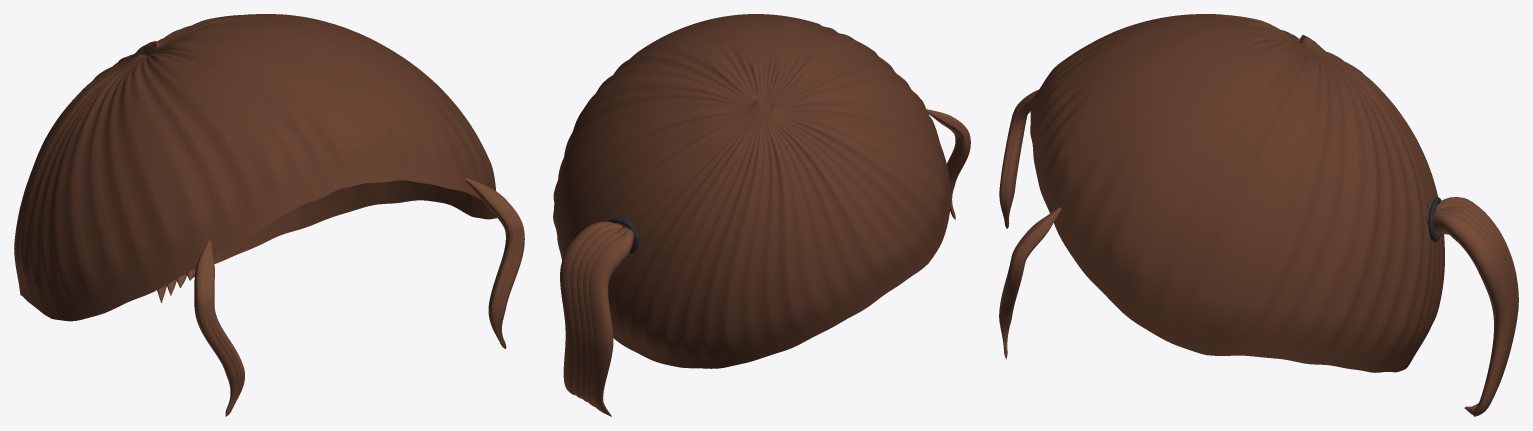
Rendered from ponytail-cowboy-default.glb.
The picture shows the model from 3 angles, left to right: view 1: azimuth 30°, elevation 25°; view 2: azimuth 150°, elevation 25°; view 3: azimuth 270°, elevation 25°; orthographic projection. The views are drawn at different scales.
Parts seen in each view (by area): view 1: 226 hair / Hair / crisp pulled roots220.001, 226 hair / Hair / sculpted front locks222.001; view 2: 226 hair / Hair / crisp pulled roots220.001, 226 hair / Hair / chestnut226, 226 hair / Hair / sculpted front locks222.001; view 3: 226 hair / Hair / crisp pulled roots220.001, 226 hair / Hair / chestnut226, 226 hair / Hair / sculpted front locks222.001.
Boxes of the visible parts, bbox=[...] form: 226 hair / Hair / crisp pulled roots220.001: bbox=[14, 14, 496, 321]; 226 hair / Hair / sculpted front locks222.001: bbox=[194, 178, 524, 416]; 226 hair / Hair / crisp pulled roots220.001: bbox=[553, 14, 950, 368]; 226 hair / Hair / chestnut226: bbox=[560, 221, 634, 416]; 226 hair / Hair / sculpted front locks222.001: bbox=[926, 109, 970, 219]; 226 hair / Hair / crisp pulled roots220.001: bbox=[1030, 14, 1444, 372]; 226 hair / Hair / chestnut226: bbox=[1426, 197, 1518, 416]; 226 hair / Hair / sculpted front locks222.001: bbox=[999, 90, 1061, 358].
Bounding box in the file's own units: 0.7726 × 0.6579 × 0.8584.
